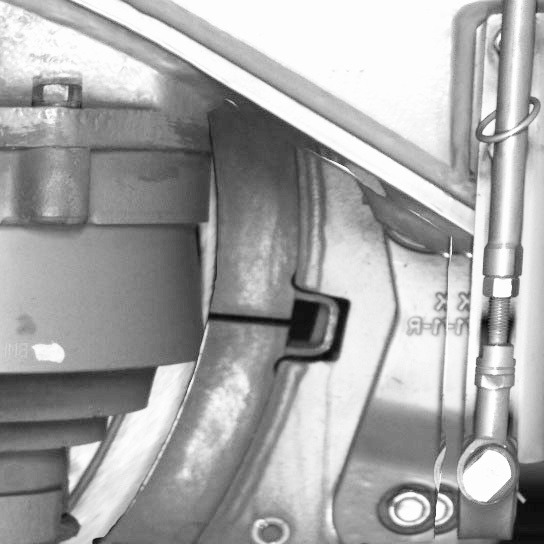ClosedKnifeSwitch: (91, 149, 289, 543)
